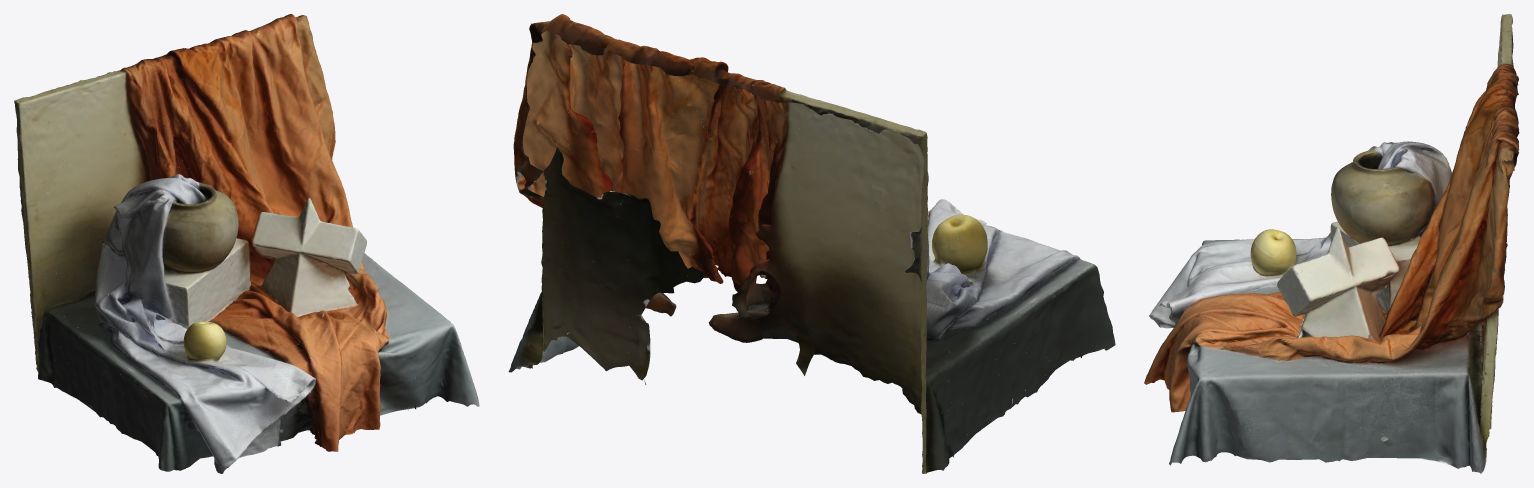
Rendered from 静物_其它_衬布陶罐静物01_opt.glb.
3 views of the same model, side by side, from view 1: azimuth 30°, elevation 25°; view 2: azimuth 150°, elevation 25°; view 3: azimuth 270°, elevation 25° (orthographic). The views are drawn at different scales.
Visible parts, largest first — view 1: defaultMat_2, defaultMat, defaultMat_3, defaultMat_1; view 2: defaultMat, defaultMat_2, defaultMat_1, defaultMat_3; view 3: defaultMat, defaultMat_2, defaultMat_1, defaultMat_3.
Part boxes in pixels (x1,y1,x2,y2): defaultMat_2: (14, 14, 441, 473); defaultMat: (20, 42, 479, 443); defaultMat_3: (17, 15, 441, 471); defaultMat_1: (20, 43, 478, 431); defaultMat: (508, 51, 973, 384); defaultMat_2: (514, 14, 1115, 473); defaultMat_1: (511, 53, 970, 377); defaultMat_3: (523, 15, 1101, 463); defaultMat: (1147, 57, 1518, 473); defaultMat_2: (1144, 14, 1519, 462); defaultMat_1: (1165, 72, 1517, 472); defaultMat_3: (1149, 20, 1518, 461).
Bounding box in the file's own units: 0.7096 × 0.6 × 0.656.
Materials: 1 (1 with a texture image).
